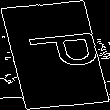P_E: (10, 33, 100, 77)
